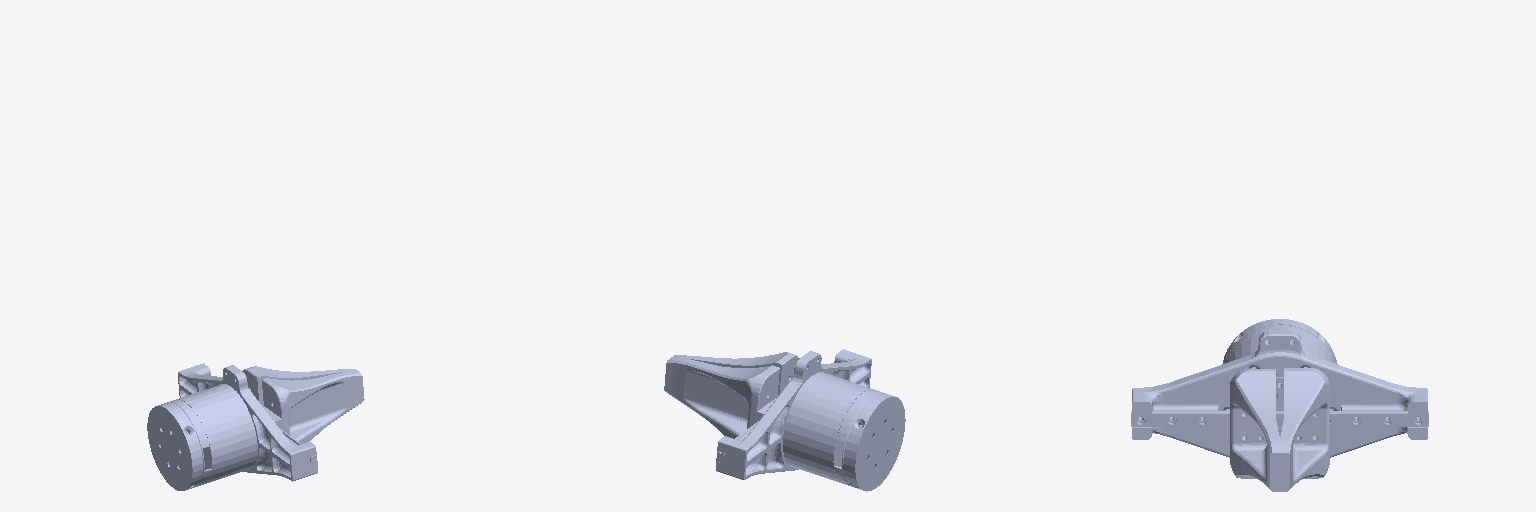
The robot description file, URDF, robot "piper_description":
<?xml version="1.0" encoding="utf-8"?>
<!-- This URDF was automatically created by SolidWorks to URDF Exporter! Originally created by [author] ([email redacted]) 
     Commit Version: 1.6.0-4-g7f85cfe  Build Version: 1.6.7995.38578
     For more information, please see http://wiki.ros.org/sw_urdf_exporter -->
<robot
  name="piper_description">
   <mujoco>
    <compiler meshdir="./meshes" balanceinertia="true" discardvisual="false"/>
  </mujoco>
  <link
    name="base_link">
    <inertial>
      <origin
        xyz="-0.00979274765955341 1.82905827587138E-06 0.0410100126360189"
        rpy="0 0 0" />
      <mass
        value="0.162548567403693" />
      <inertia
        ixx="0.000226596924525071"
        ixy="-7.33972270153965E-08"
        ixz="2.13249977802622E-06"
        iyy="0.000269444772561524"
        iyz="8.15169009611054E-09"
        izz="0.000222318258878636" />
    </inertial>
    <visual>
      <origin
        xyz="0 0 0"
        rpy="0 0 0" />
      <geometry>
        <mesh
          filename="package://piper_description/meshes/base_link_collision.STL" />
      </geometry>
      <material
        name="">
        <color
          rgba="0.792156862745098 0.819607843137255 0.933333333333333 1" />
      </material>
    </visual>
    <collision>
      <origin
        xyz="0 0 0"
        rpy="0 0 0" />
      <geometry>
        <mesh
          filename="package://piper_description/meshes/base_link.STL" />
      </geometry>
    </collision>
  </link>
  <link
    name="link1">
    <inertial>
      <origin
        xyz="0.00131676031927024 0.000310288842008612 -0.00922874512303437"
        rpy="0 0 0" />
      <mass
        value="0.0978679932242825" />
      <inertia
        ixx="7.76684558296782E-05"
        ixy="1.09084650459924E-07"
        ixz="-1.9748053243241E-06"
        iyy="9.24967780161547E-05"
        iyz="9.91284646834582E-07"
        izz="8.24589062407807E-05" />
    </inertial>
    <visual>
      <origin
        xyz="0 0 0"
        rpy="0 0 0" />
      <geometry>
        <mesh
          filename="package://piper_description/meshes/link1_collision.STL" />
      </geometry>
      <material
        name="">
        <color
          rgba="0.792156862745098 0.819607843137255 0.933333333333333 1" />
      </material>
    </visual>
    <collision>
      <origin
        xyz="0 0 0"
        rpy="0 0 0" />
      <geometry>
        <mesh
          filename="package://piper_description/meshes/link1.STL" />
      </geometry>
    </collision>
  </link>
  <joint
    name="joint1"
    type="revolute">
    <origin
      xyz="0 0 0.123"
      rpy="0 0 -1.5708" />
    <parent
      link="base_link" />
    <child
      link="link1" />
    <axis
      xyz="0 0 1" />
    <limit
      lower="-2.618"
      upper="2.618"
      effort="100"
      velocity="3" />
  </joint>
  <link
    name="link2">
    <inertial>
      <origin
        xyz="0.148793602378802 -0.00242026983944119 0.00175154638467948"
        rpy="0 0 0" />
      <mass
        value="0.290888938633388" />
      <inertia
        ixx="0.000148959640166183"
        ixy="-7.37750384371657E-05"
        ixz="-9.68688405196236E-07"
        iyy="0.00172800946632652"
        iyz="-1.09692225564224E-06"
        izz="0.0017754628344594" />
    </inertial>
    <visual>
      <origin
        xyz="0 0 0"
        rpy="0 0 0" />
      <geometry>
        <mesh
          filename="package://piper_description/meshes/link2_collision.STL" />
      </geometry>
      <material
        name="">
        <color
          rgba="0.792156862745098 0.819607843137255 0.933333333333333 1" />
      </material>
    </visual>
    <collision>
      <origin
        xyz="0 0 0"
        rpy="0 0 0" />
      <geometry>
        <mesh
          filename="package://piper_description/meshes/link2.STL" />
      </geometry>
    </collision>
  </link>
  <joint
    name="joint2"
    type="revolute">
    <origin
      xyz="0 0 0"
      rpy="1.5708 0 -1.5708" />
    <parent
      link="link1" />
    <child
      link="link2" />
    <axis
      xyz="0 0 1" />
    <limit
      lower="0"
      upper="3.14"
      effort="100"
      velocity="3" />
  </joint>
  <link
    name="link3">
    <inertial>
      <origin
        xyz="-0.0996835215213704 0.0349477226691318 0.000508025815507312"
        rpy="0 0 0" />
      <mass
        value="0.290847697793211" />
      <inertia
        ixx="0.000107879011637167"
        ixy="2.92669521203626E-05"
        ixz="6.825922326238E-07"
        iyy="0.000214751671792086"
        iyz="-7.78469047878196E-07"
        izz="0.000241923439340319" />
    </inertial>
    <visual>
      <origin
        xyz="0 0 0"
        rpy="0 0 0" />
      <geometry>
        <mesh
          filename="package://piper_description/meshes/link3_collision.STL" />
      </geometry>
      <material
        name="">
        <color
          rgba="0.792156862745098 0.819607843137255 0.933333333333333 1" />
      </material>
    </visual>
    <collision>
      <origin
        xyz="0 0 0"
        rpy="0 0 0" />
      <geometry>
        <mesh
          filename="package://piper_description/meshes/link3.STL" />
      </geometry>
    </collision>
  </link>
  <joint
    name="joint3"
    type="revolute">
    <origin
      xyz="0.28358 0.028726 0"
      rpy="0 0 0.10095" />
    <parent
      link="link2" />
    <child
      link="link3" />
    <axis
      xyz="0 0 1" />
    <limit
      lower="-2.697"
      upper="0"
      effort="100"
      velocity="3" />
  </joint>
  <link
    name="link4">
    <inertial>
      <origin
        xyz="0.000276464622387979 -0.00102803669324875 -0.00472830700561663"
        rpy="0 0 0" />
      <mass
        value="0.127087348341362" />
      <inertia
        ixx="3.82011730423416E-05"
        ixy="-4.92358350897513E-08"
        ixz="4.89589432973119E-08"
        iyy="4.87048555222578E-05"
        iyz="6.70802942500512E-08"
        izz="4.10592077565559E-05" />
    </inertial>
    <visual>
      <origin
        xyz="0 0 0"
        rpy="0 0 0" />
      <geometry>
        <mesh
          filename="package://piper_description/meshes/link4_collision.STL" />
      </geometry>
      <material
        name="">
        <color
          rgba="0.792156862745098 0.819607843137255 0.933333333333333 1" />
      </material>
    </visual>
    <collision>
      <origin
        xyz="0 0 0"
        rpy="0 0 0" />
      <geometry>
        <mesh
          filename="package://piper_description/meshes/link4.STL" />
      </geometry>
    </collision>
  </link>
  <joint
    name="joint4"
    type="revolute">
    <origin
      xyz="-0.24221 0.068514 0"
      rpy="-1.5708 0 1.3826" />
    <parent
      link="link3" />
    <child
      link="link4" />
    <axis
      xyz="0 0 1" />
    <limit
      lower="-1.832"
      upper="1.832"
      effort="100"
      velocity="3" />
  </joint>
  <link
    name="link5">
    <inertial>
      <origin
        xyz="8.82262433516967E-05 0.0566829014808256 -0.00196119720482461"
        rpy="0 0 0" />
      <mass
        value="0.144711242639457" />
      <inertia
        ixx="4.39644313662493E-05"
        ixy="-3.59259686444846E-08"
        ixz="-1.89747741386183E-08"
        iyy="5.63173920951307E-05"
        iyz="-2.1540716689785E-07"
        izz="4.88713664675268E-05" />
    </inertial>
    <visual>
      <origin
        xyz="0 0 0"
        rpy="0 0 0" />
      <geometry>
        <mesh
          filename="package://piper_description/meshes/link5_collision.STL" />
      </geometry>
      <material
        name="">
        <color
          rgba="0.792156862745098 0.819607843137255 0.933333333333333 1" />
      </material>
    </visual>
    <collision>
      <origin
        xyz="0 0 0"
        rpy="0 0 0" />
      <geometry>
        <mesh
          filename="package://piper_description/meshes/link5.STL" />
      </geometry>
    </collision>
  </link>
  <joint
    name="joint5"
    type="revolute">
    <origin
      xyz="0 0 0"
      rpy="1.5708 0 0" />
    <parent
      link="link4" />
    <child
      link="link5" />
    <axis
      xyz="0 0 1" />
    <limit
      lower="-1.22"
      upper="1.22"
      effort="100"
      velocity="3" />
  </joint>
  <link
    name="link6">
    <inertial>
      <origin
        xyz="0.00103120214523473 0.0121761387587524 0.0315480874960164"
        rpy="0 0 0" />
      <mass
        value="0.195187143240719" />
      <inertia
        ixx="6.43790256535539E-05"
        ixy="-1.2366166157046E-06"
        ixz="1.97664606328472E-07"
        iyy="0.000126146396374301"
        iyz="2.41157078516408E-06"
        izz="0.000154087076816444" />
    </inertial>
    <visual>
      <origin
        xyz="0 0 0"
        rpy="0 0 1.5708" />
      <geometry>
        <mesh
          filename="package://piper_description/meshes/link6_collision.STL" />
      </geometry>
      <material
        name="">
        <color
          rgba="0.792156862745098 0.819607843137255 0.933333333333333 1" />
      </material>
    </visual>
    <collision>
      <origin
        xyz="0 0 0"
        rpy="0 0 0" />
      <geometry>
        <mesh
          filename="package://piper_description/meshes/link6_1.STL" />
      </geometry>
    </collision>
  </link>
  <joint
    name="joint6"
    type="revolute">
    <origin
      xyz="0 0.091 0.0014165"
      rpy="-1.5708 -3.1415926 0" />
    <parent
      link="link5" />
    <child
      link="link6" />
    <axis
      xyz="0 0 1" />
    <limit
      lower="-3.14"
      upper="3.14"
      effort="100"
      velocity="3" />
  </joint>
  <link
    name="link7">
    <inertial>
      <origin
        xyz="-0.000277778383727112 -0.0467673043650824 -0.00921029491873201"
        rpy="0 0 0" />
      <mass
        value="0.02648229234527" />
      <inertia
        ixx="9.99787479924589E-06"
        ixy="-1.57548495096104E-07"
        ixz="-2.71342775003487E-08"
        iyy="6.1795212293655E-06"
        iyz="-1.58939803580081E-06"
        izz="1.42102717246564E-05" />
    </inertial>
    <visual>
      <origin
        xyz="0 0 0"
        rpy="0 0 0" />
      <geometry>
        <mesh
          filename="package://piper_description/meshes/link7_collision.STL" />
      </geometry>
      <material
        name="">
        <color
          rgba="0.792156862745098 0.819607843137255 0.933333333333333 1" />
      </material>
    </visual>
    <collision>
      <origin
        xyz="0 0 0"
        rpy="0 0 0" />
      <geometry>
        <mesh
          filename="package://piper_description/meshes/link7.STL" />
      </geometry>
    </collision>
  </link>
  <joint
    name="joint7"
    type="prismatic">
    <origin
      xyz="0 0 0.13503"
      rpy="1.5708 0 3.1415926" />
    <parent
      link="link6" />
    <child
      link="link7" />
    <axis
      xyz="0 0 -1" />
    <limit
      lower="0"
      upper="0.04"
      effort="10"
      velocity="1" />
  </joint>
  <link
    name="link8">
    <inertial>
      <origin
        xyz="0.000277816920932317 0.0467673824063769 -0.00921030054508036"
        rpy="0 0 0" />
      <mass
        value="0.0264822021416248" />
      <inertia
        ixx="9.99779119357223E-06"
        ixy="-1.57542283433504E-07"
        ixz="2.71367446701359E-08"
        iyy="6.17952441557932E-06"
        iyz="1.58939319453383E-06"
        izz="1.4210192754512E-05" />
    </inertial>
    <visual>
      <origin
        xyz="0 0 0"
        rpy="0 0 0" />
      <geometry>
        <mesh
          filename="package://piper_description/meshes/link8_collision.STL" />
      </geometry>
      <material
        name="">
        <color
          rgba="0.792156862745098 0.819607843137255 0.933333333333333 1" />
      </material>
    </visual>
    <collision>
      <origin
        xyz="0 0 0"
        rpy="0 0 0" />
      <geometry>
        <mesh
          filename="package://piper_description/meshes/link8.STL" />
      </geometry>
    </collision>
  </link>
  <joint
    name="joint8"
    type="prismatic">
    <origin
      xyz="0 0 0.13503"
      rpy="-1.5708 0 3.1415926" />
    <parent
      link="link6" />
    <child
      link="link8" />
    <axis
      xyz="0 0 1" />
    <limit
      lower="-0.04"
      upper="0"
      effort="10"
      velocity="1" />
  </joint>
</robot>

--- What the picture shows (computed from the rendered views, not written in the file) ---
The picture shows the robot from 3 angles, left to right: view 1: azimuth 30°, elevation 25°; view 2: azimuth 150°, elevation 25°; view 3: azimuth 270°, elevation 25°; orthographic projection.
Robot: piper_description — 9 links, 8 joints (6 revolute, 2 prismatic); root link base_link; default pose: every joint at zero.
Links seen in each view (by area): view 1: link6, link7, link8; view 2: link6, link8, link7; view 3: link6, link8, link7.
Link boxes in pixels (x1,y1,x2,y2): link6: (147,363,317,490); link7: (262,371,364,443); link8: (242,366,357,406); link6: (716,349,905,491); link8: (664,358,779,438); link7: (671,352,798,395); link6: (1131,319,1428,457); link8: (1280,368,1329,491); link7: (1230,369,1279,491).
Size in the robot's own frame: 0.1501 by 0.145 by 0.2811 metres.
3 mesh visuals loaded from 9 distinct referenced files (3 binary STL); not drawn: 6 (reference not matched to a file when rendering).